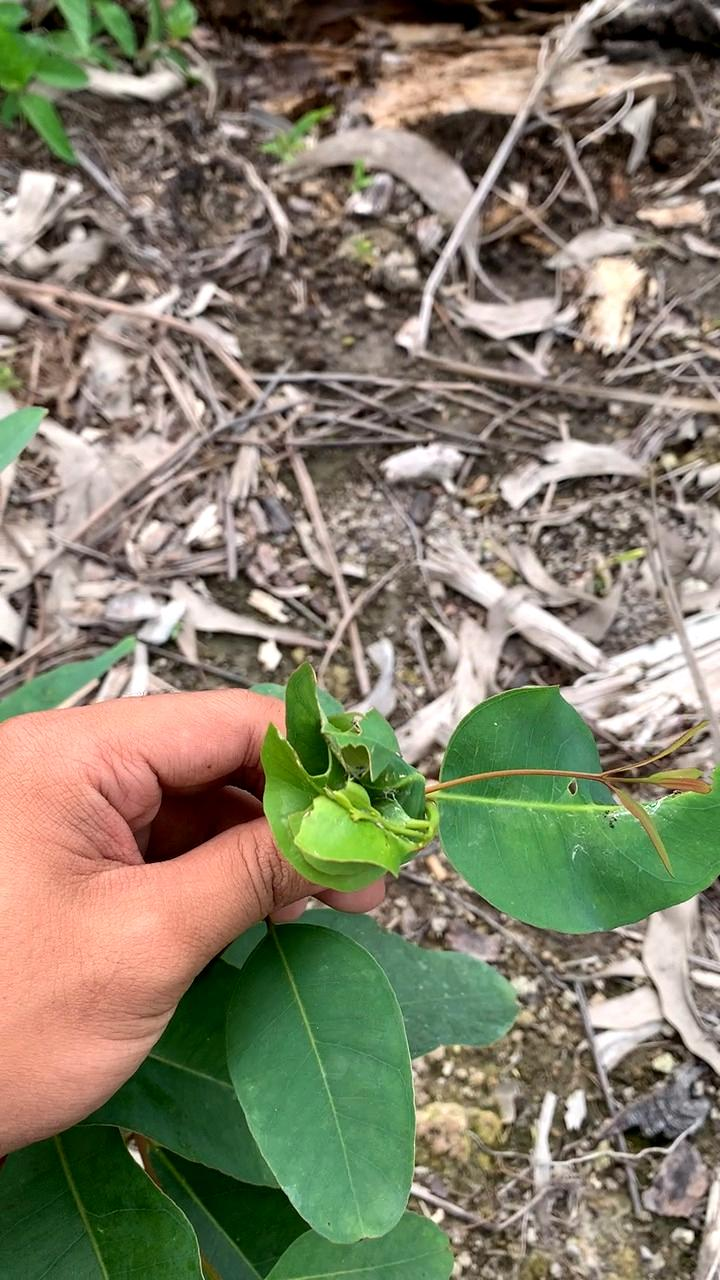Leaf Roller - Leaf: (253, 658, 439, 891)
